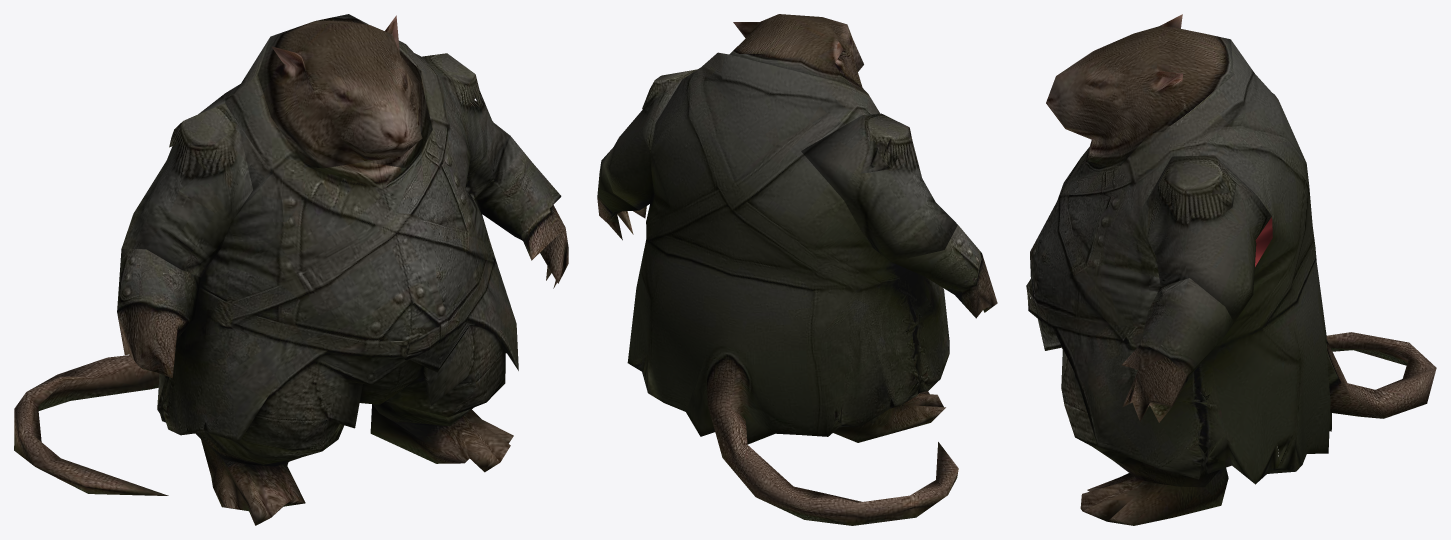
File: cavalry_mix_gibs.glb
The picture shows the model from 3 angles, left to right: view 1: azimuth 30°, elevation 25°; view 2: azimuth 150°, elevation 25°; view 3: azimuth 270°, elevation 25°; orthographic projection. The views are drawn at different scales.
Parts seen in each view (by area): view 1: Body.001, Head.001, Arm.R.001, Forarm.R.001, Forarm.L.001, Leg.L.001, Arm.L.001, Leg.R.001, Upleg.R.001, Upleg.L.001; view 2: Body.001, Arm.R.001, Head.001, Arm.L.001, Forarm.R.001, Leg.R.001, Forarm.L.001; view 3: Body.001, Head.001, Arm.L.001, Forarm.L.001, Leg.L.001, Upleg.L.001.
Boxes of the visible parts, left/top/right/bottom form: Body.001: left=14, top=16, right=518, bottom=495; Head.001: left=258, top=14, right=432, bottom=168; Arm.R.001: left=121, top=93, right=252, bottom=277; Forarm.R.001: left=117, top=249, right=200, bottom=378; Forarm.L.001: left=474, top=136, right=568, bottom=288; Leg.L.001: left=370, top=404, right=513, bottom=472; Arm.L.001: left=422, top=53, right=510, bottom=198; Leg.R.001: left=201, top=439, right=305, bottom=525; Upleg.R.001: left=195, top=424, right=344, bottom=466; Upleg.L.001: left=373, top=401, right=473, bottom=426; Body.001: left=627, top=52, right=958, bottom=525; Arm.R.001: left=801, top=113, right=957, bottom=261; Head.001: left=729, top=14, right=867, bottom=93; Arm.L.001: left=603, top=69, right=697, bottom=210; Forarm.R.001: left=891, top=225, right=997, bottom=318; Leg.R.001: left=833, top=391, right=945, bottom=442; Forarm.L.001: left=597, top=147, right=646, bottom=240; Body.001: left=1026, top=40, right=1436, bottom=484; Head.001: left=1046, top=14, right=1233, bottom=166; Arm.L.001: left=1138, top=155, right=1272, bottom=322; Forarm.L.001: left=1121, top=278, right=1233, bottom=422; Leg.L.001: left=1080, top=467, right=1228, bottom=525; Upleg.L.001: left=1093, top=447, right=1219, bottom=487.
Size of the model in its own units: 0.9816 by 0.9009 by 0.7744.
2 materials, 1 textured.
